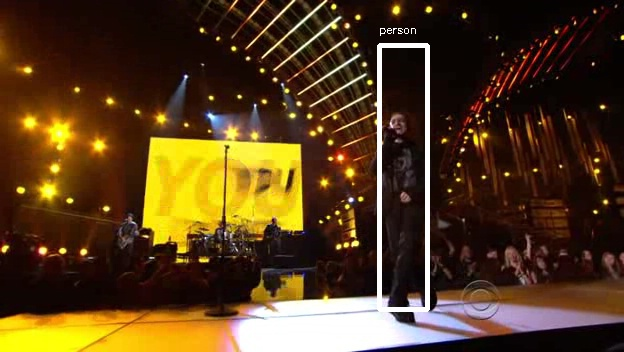person: (369, 110, 435, 220), (366, 110, 432, 220), (372, 110, 438, 220), (369, 107, 435, 217), (369, 113, 435, 223)
target_negative: (349, 23, 501, 275), (83, 273, 560, 305), (223, 120, 287, 326), (599, 132, 618, 319), (601, 164, 624, 265), (49, 293, 88, 302)
